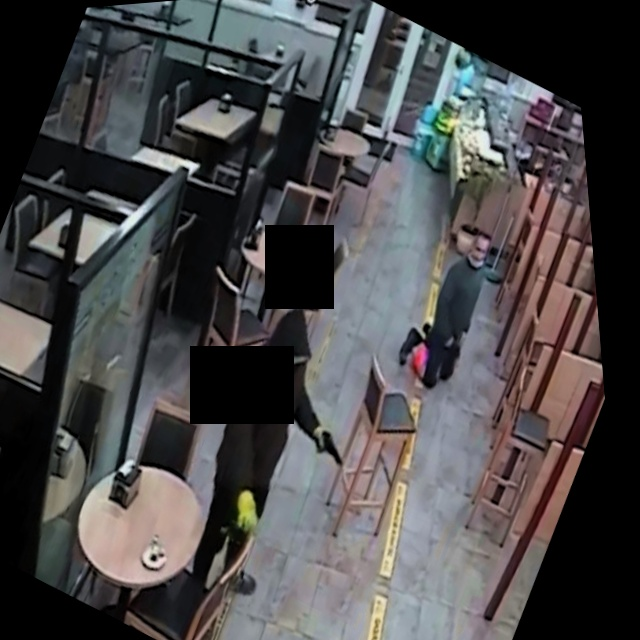gun: (297, 409, 365, 487)
